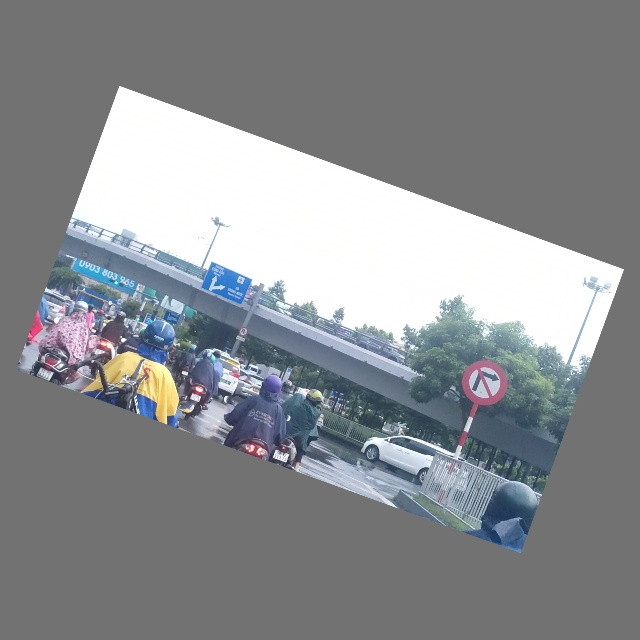P.123b: (453, 352, 515, 415)
P.124b1: (237, 326, 250, 339)
